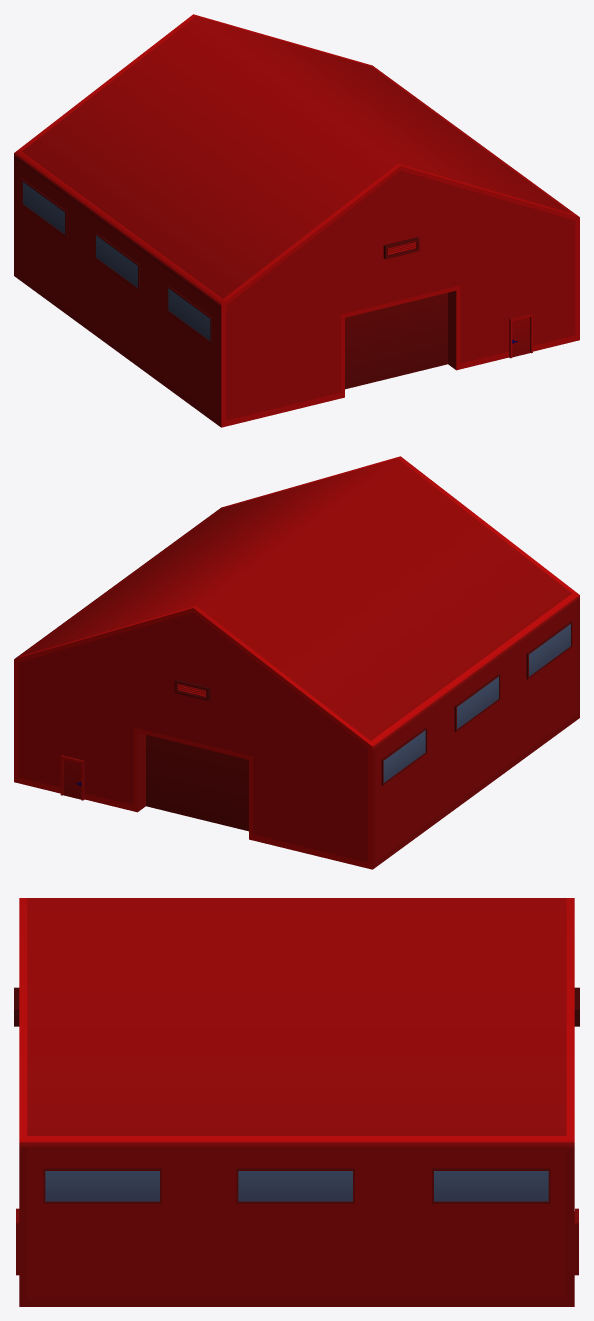
The model's file is buildings-industrial-warehouse_v4.fbx.
The picture shows the model from 3 angles, top to bottom: view 1: azimuth 30°, elevation 25°; view 2: azimuth 150°, elevation 25°; view 3: azimuth 270°, elevation 25°; orthographic projection. The views are drawn at different scales.
Parts seen in each view (by area): view 1: Warehouse_v4_base, Warehouse_v4_windowRefl; view 2: Warehouse_v4_base, Warehouse_v4_windowRefl; view 3: Warehouse_v4_base, Warehouse_v4_windowRefl.
Boxes of the visible parts, <box> form: Warehouse_v4_base: <box>14,14,579,427</box>; Warehouse_v4_windowRefl: <box>23,182,210,340</box>; Warehouse_v4_base: <box>14,456,579,869</box>; Warehouse_v4_windowRefl: <box>383,624,570,782</box>; Warehouse_v4_base: <box>14,898,579,1306</box>; Warehouse_v4_windowRefl: <box>45,1171,548,1201</box>.
Size of the model in its own units: 23.51 by 13.59 by 23.81.
